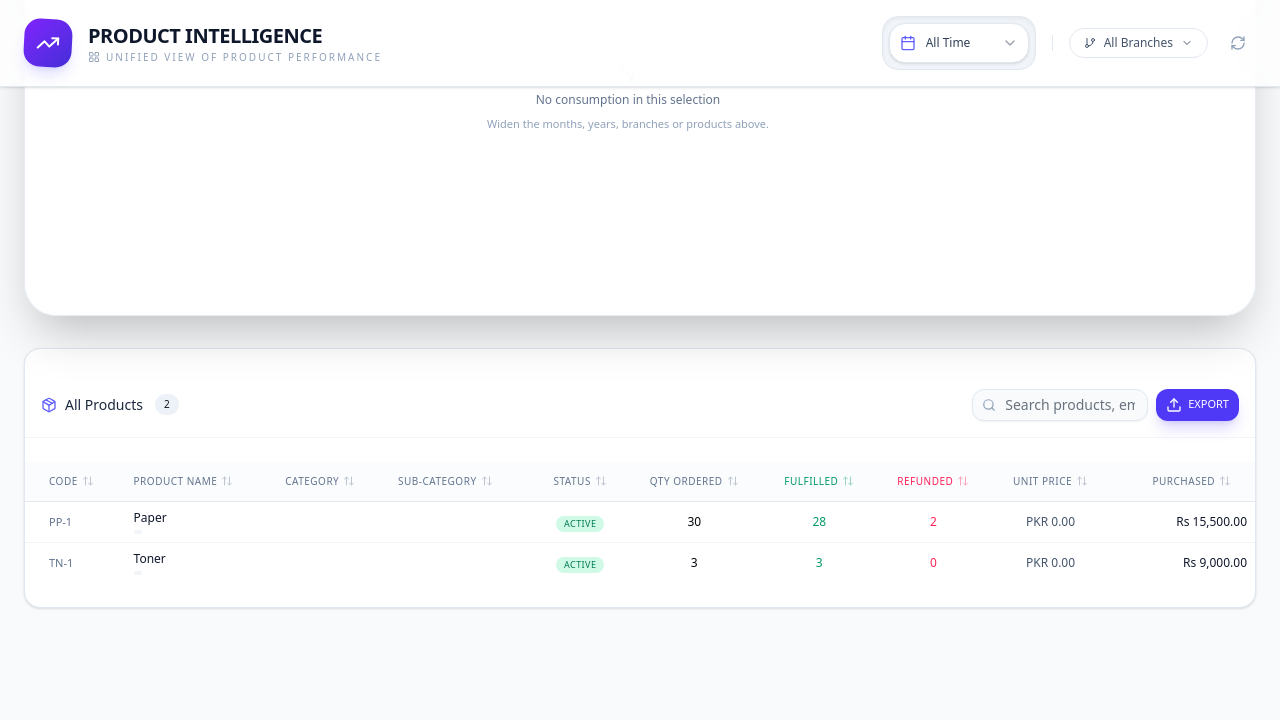
Scenario: Product Performance report › ranks products by revenue and filters them by name
The image size is (1280, 720).
(page scrolled)
Expected: the text "Paper" is shown, [134,509,167,526]
Type "ton" into the field with placeholder "Search products, employee #, or name..." at [1060, 404], box [972,388,1148,420]
(page scrolled)
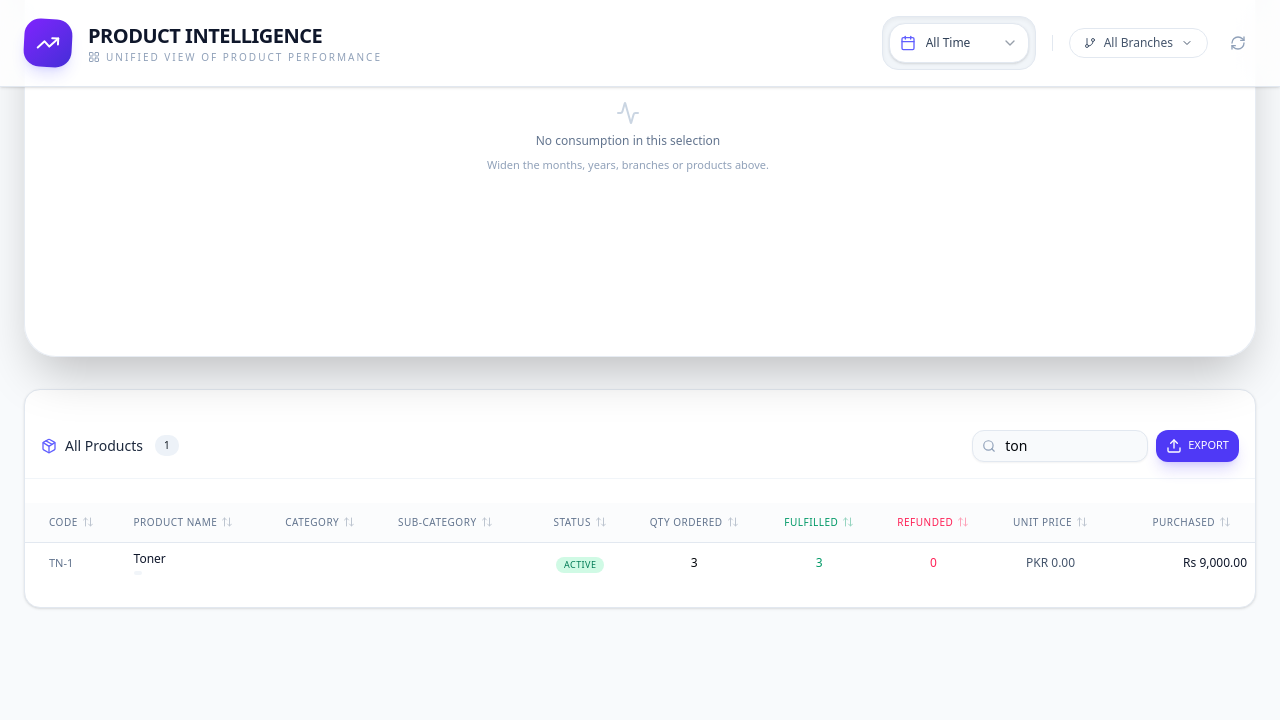
Replace the text in the field with placeholder "Search products, employee #, or name..." with "zzz" at [1060, 446], box [972,430,1148,462]
(page scrolled)
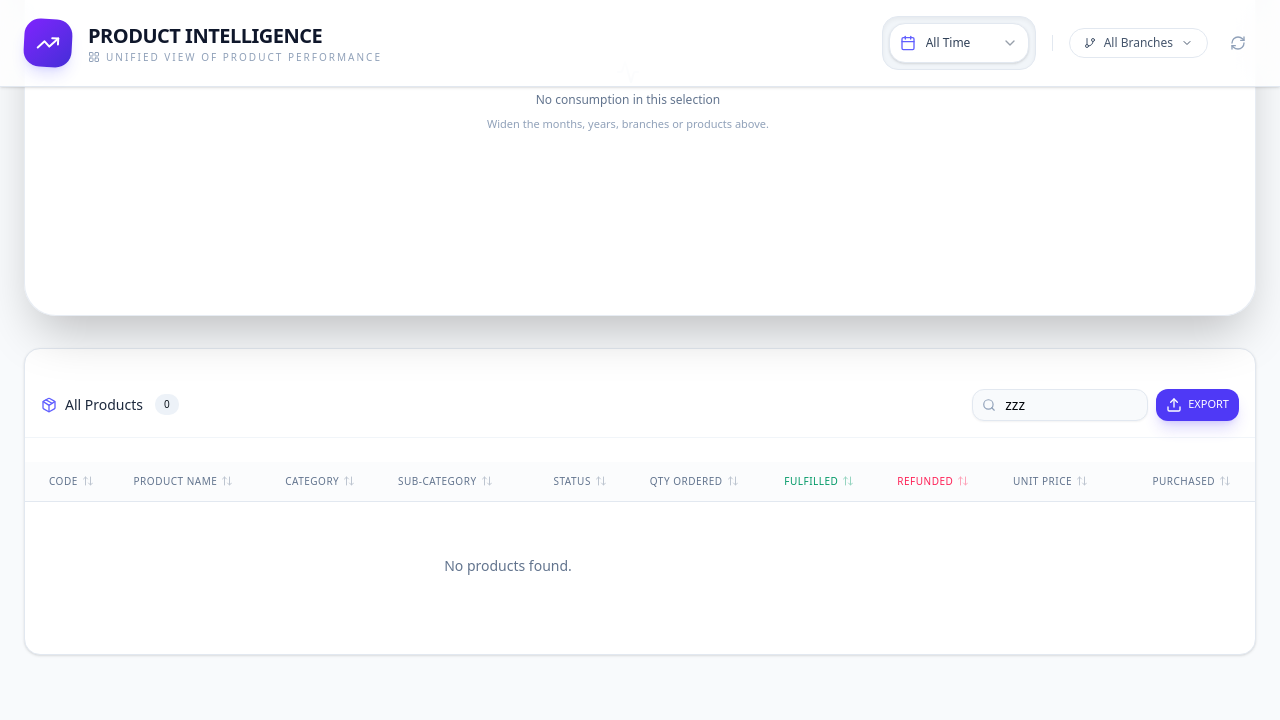
Expected: the text "No products found." is shown, [25,502,991,630]
